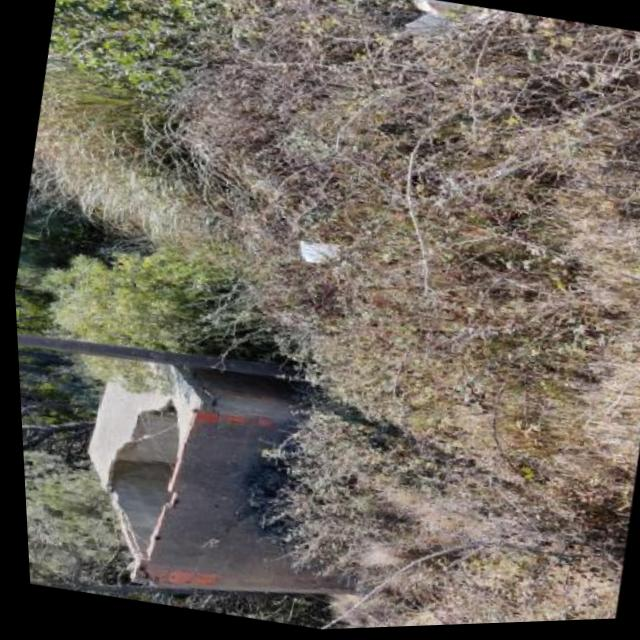plastic: (297, 238, 344, 269)
